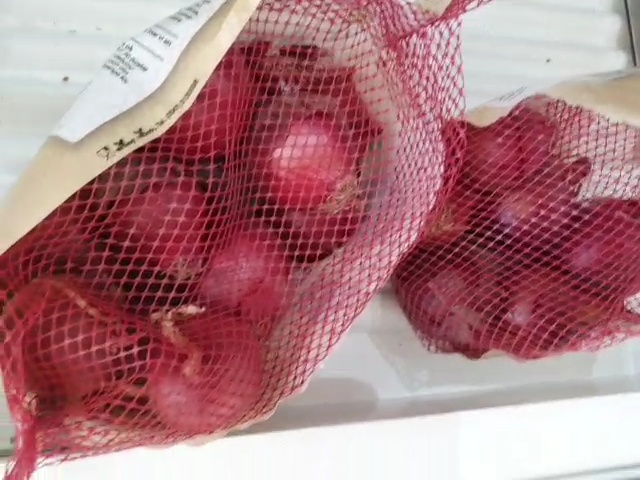red_onion: (24, 51, 361, 435), (403, 128, 639, 354)
